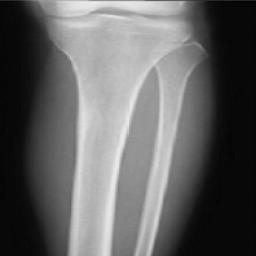cancer: (70, 61, 153, 171)
